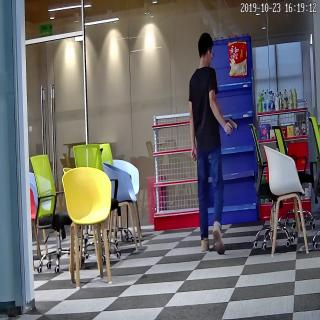gun: (224, 116, 238, 139)
